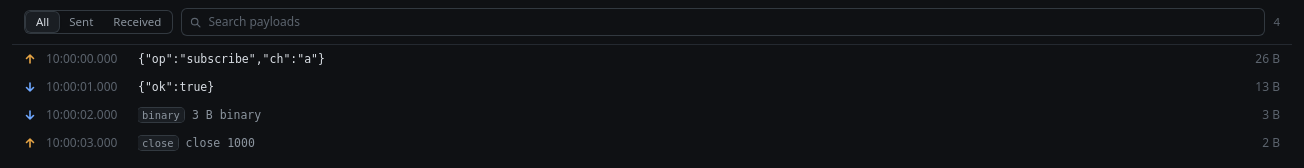
Test case: MessagesView › lists messages with direction and filters them
The image size is (1304, 168).
Expected: the text "{\"op\":\"subscribe\",\"ch\":\"a\"}" is shown, [138,52,325,66]
Expected: the number of icons named "Received" is 2, [24,81,36,93]; [24,109,36,121]
Click the button "Sent" at (81, 22), box [59,12,103,32]
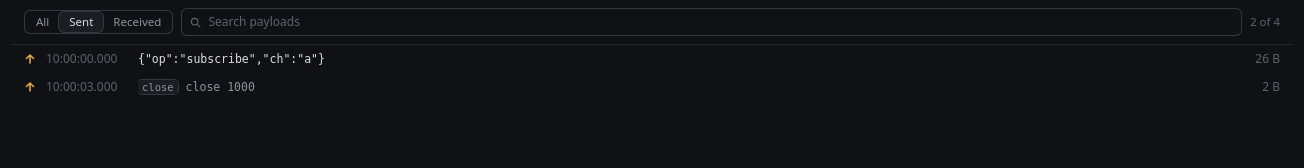
Result: the button "{\"ok\":true}" is gone
Result: the text "2 of 4" is shown at [1250,14,1280,30]
Click the button "All" at (43, 22), box [26,12,59,32]
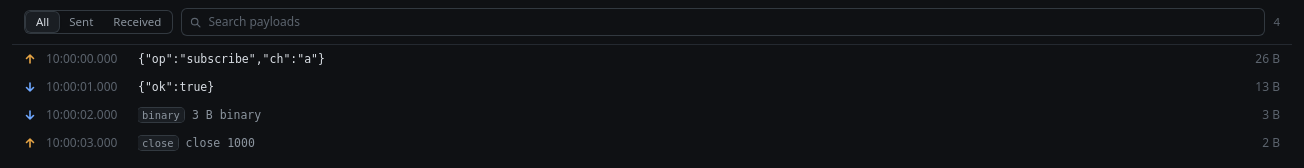
Type "OK" into the field named "Search messages" at (733, 22), box [208,14,1257,30]
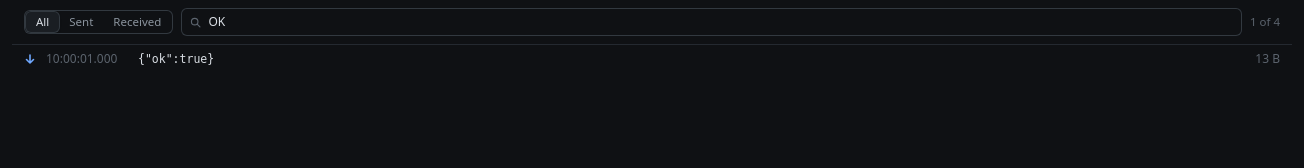
Result: the text "{\"ok\":true}" is shown at [138,52,214,66]
Result: the button "{\"op\":\"subscribe\",\"ch\":\"a\"}" is gone
